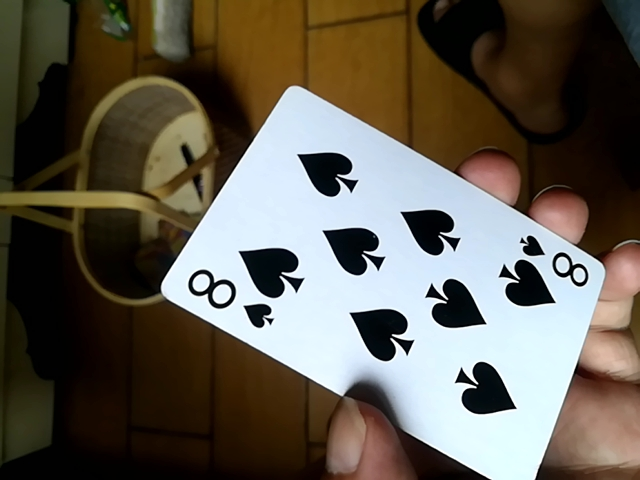ht 8: (160, 86, 605, 478)
